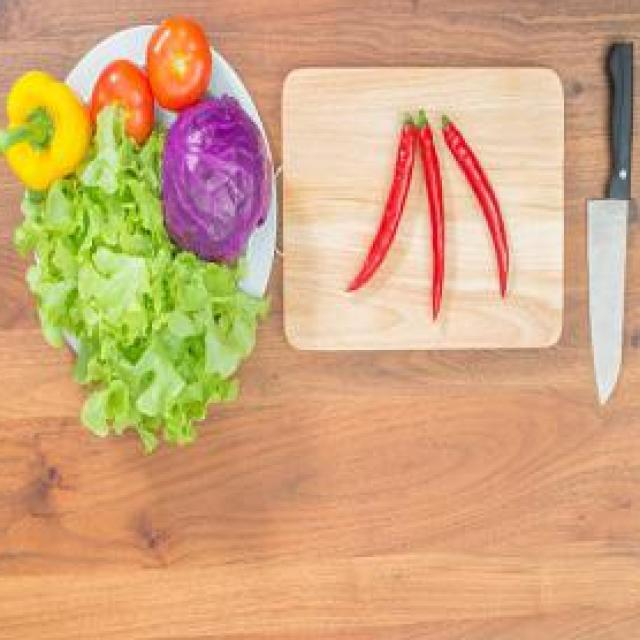knife: (588, 39, 636, 405)
